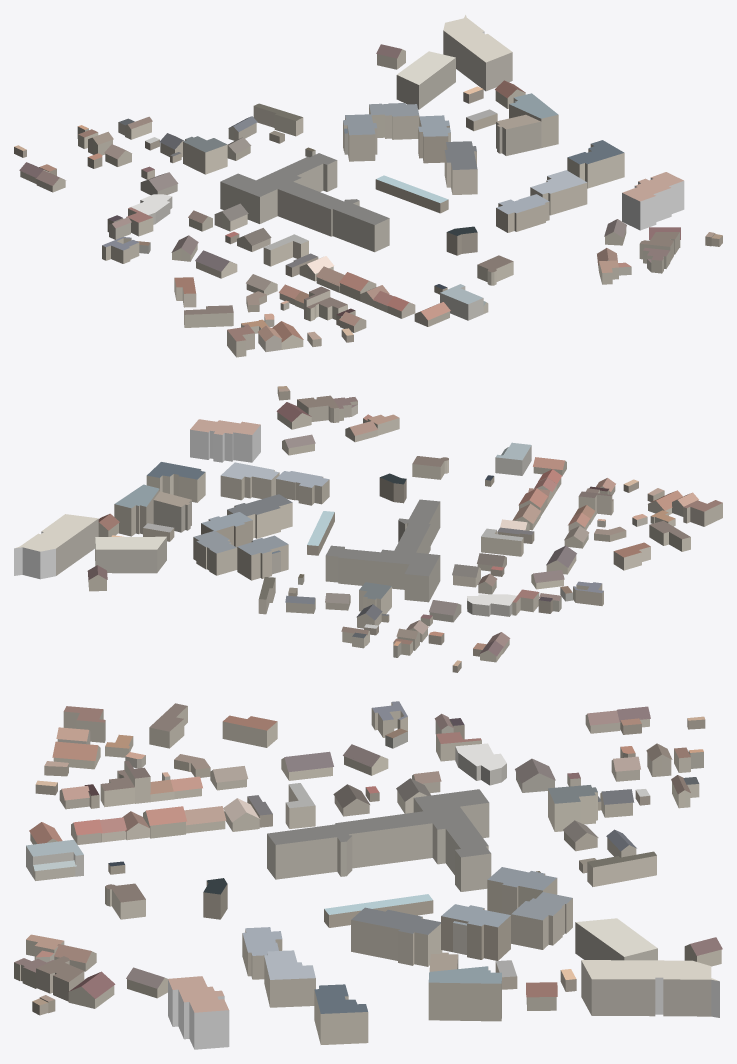
3 renders of one model, top to bottom at view 1: azimuth 30°, elevation 25°; view 2: azimuth 150°, elevation 25°; view 3: azimuth 270°, elevation 25°, orthographic. The views are drawn at different scales.
Visible parts, largest first — view 1: tuile; view 2: tuile; view 3: tuile.
Part boxes in pixels (box(x1,y1,x2,y2)): tuile: box(14, 15, 722, 357); tuile: box(14, 386, 722, 672); tuile: box(14, 701, 722, 1049).
Size of the model in its own units: 271 by 24.93 by 257.
